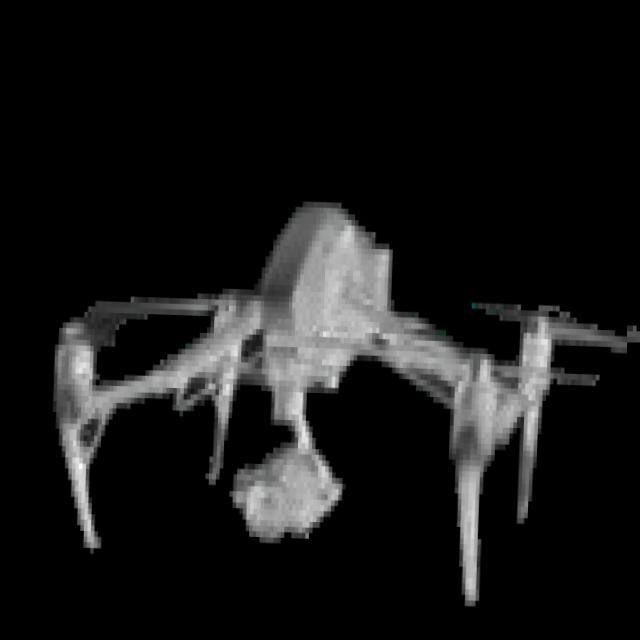drone: (34, 192, 627, 617)
